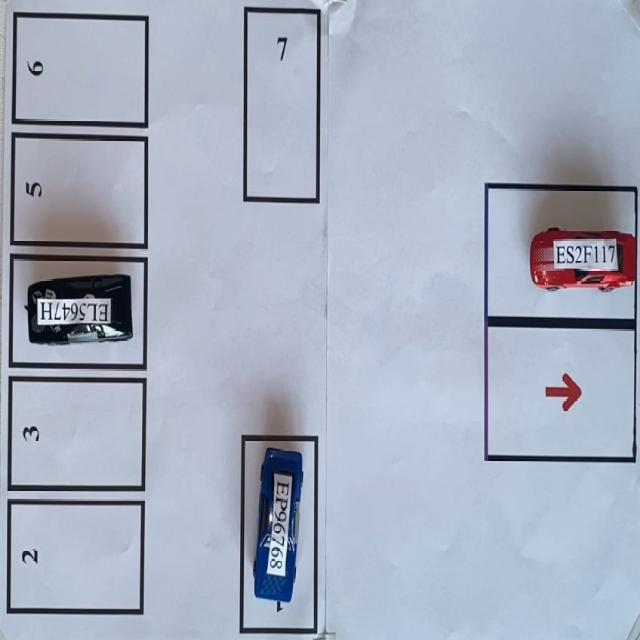car: (254, 448, 303, 610), (26, 274, 133, 343), (531, 228, 635, 290)
